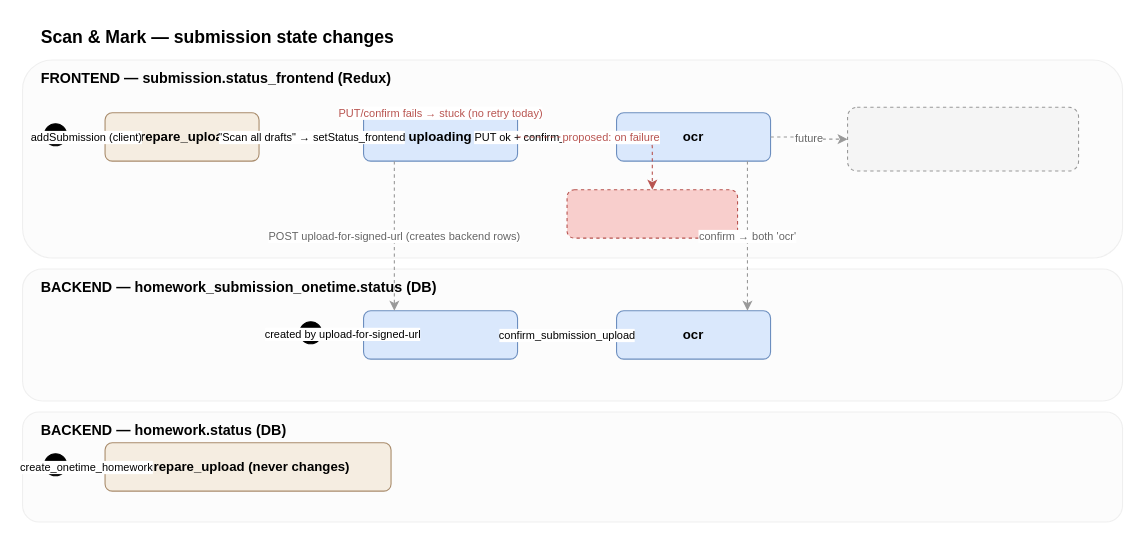
Some shapes in this 1142 by 541 pixel diagram are drawn without their labels. The centre of each missing label's shape, as x and y in pixels:
"future: OCR execution ocr_processing / ocr_failed → Retry OCR" goes at [962,138].
"upload_failed (proposed) → Retry" goes at [652,213].
"uploading (row created)" goes at [440,334].
